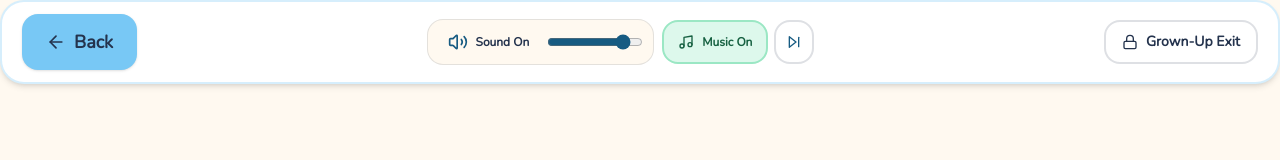
Test: LittleSteps UI Components › toggles background music and switches to next random preschool song in KidsHeader
Click the button named "Play next random song" at (794, 42), box 774,20 -> 814,64
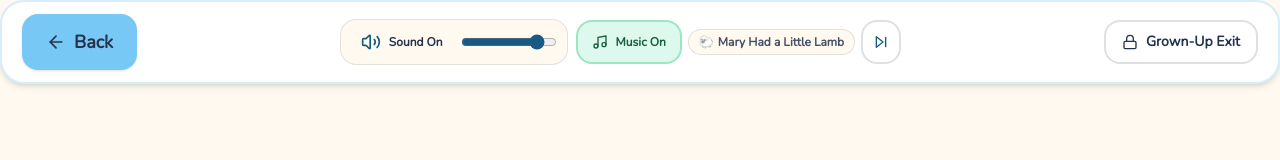
Click the button named "Play next random song" at (881, 42), box 861,20 -> 901,64
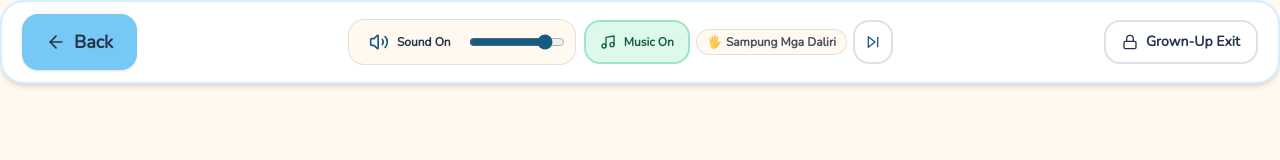
Click the button with aria-label "Turn background music off" at (637, 42), box 584,20 -> 690,64
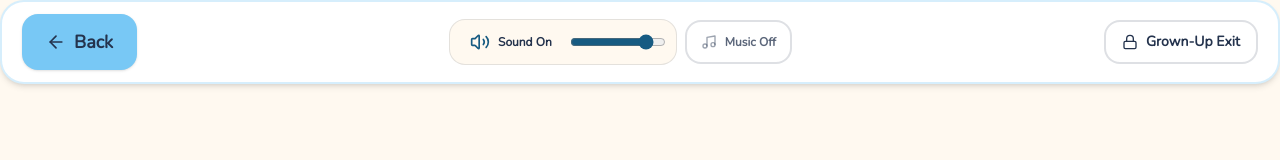
Click the button with aria-label "Turn background music on" at (738, 42), box 685,20 -> 792,64
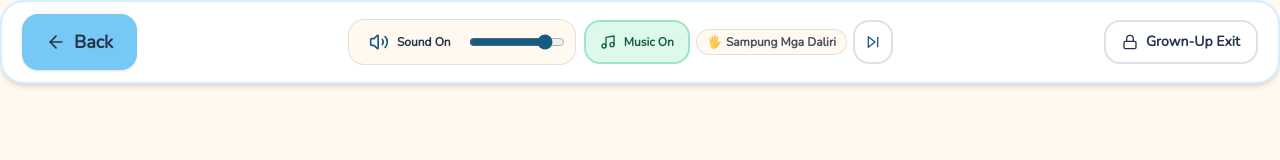
Now the button named "Play next random song" is shown, box 853,20 -> 893,64
